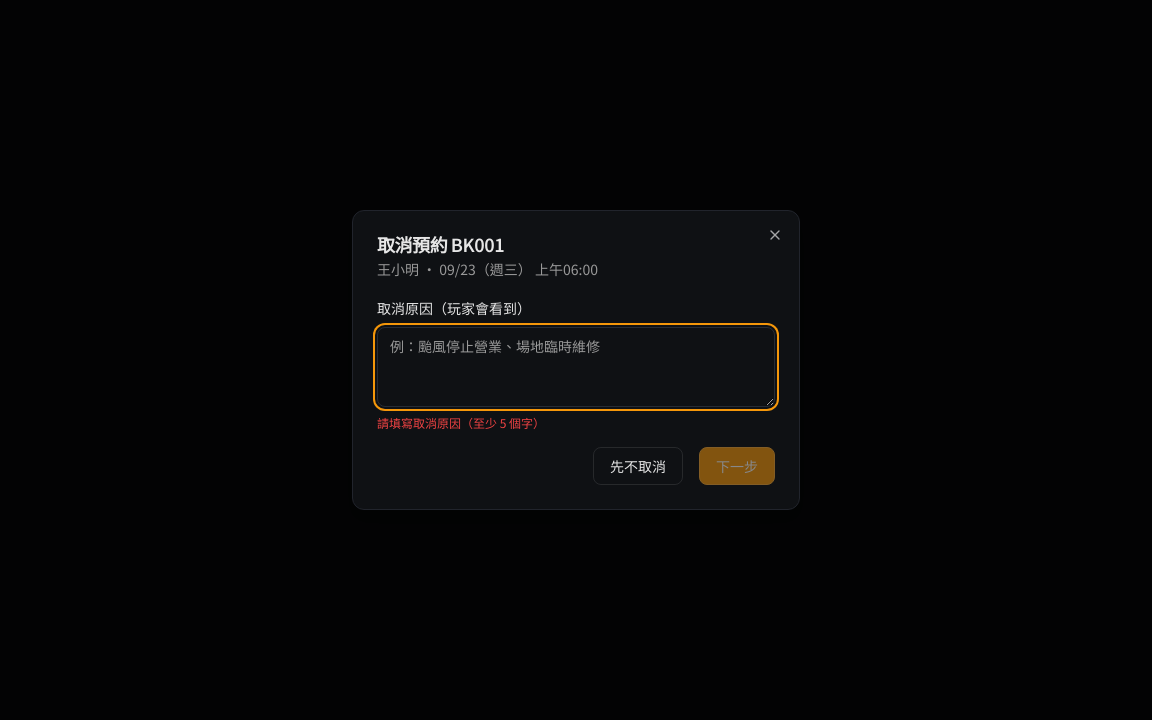
Test: CancelBookingDialog › 輸入不足 5 字 → 即時提示還差幾個字
The image size is (1152, 720).
In the text box with test id "input-cancel-reason": [576, 367] box left=377, top=327, right=775, bottom=407, type "下雨"
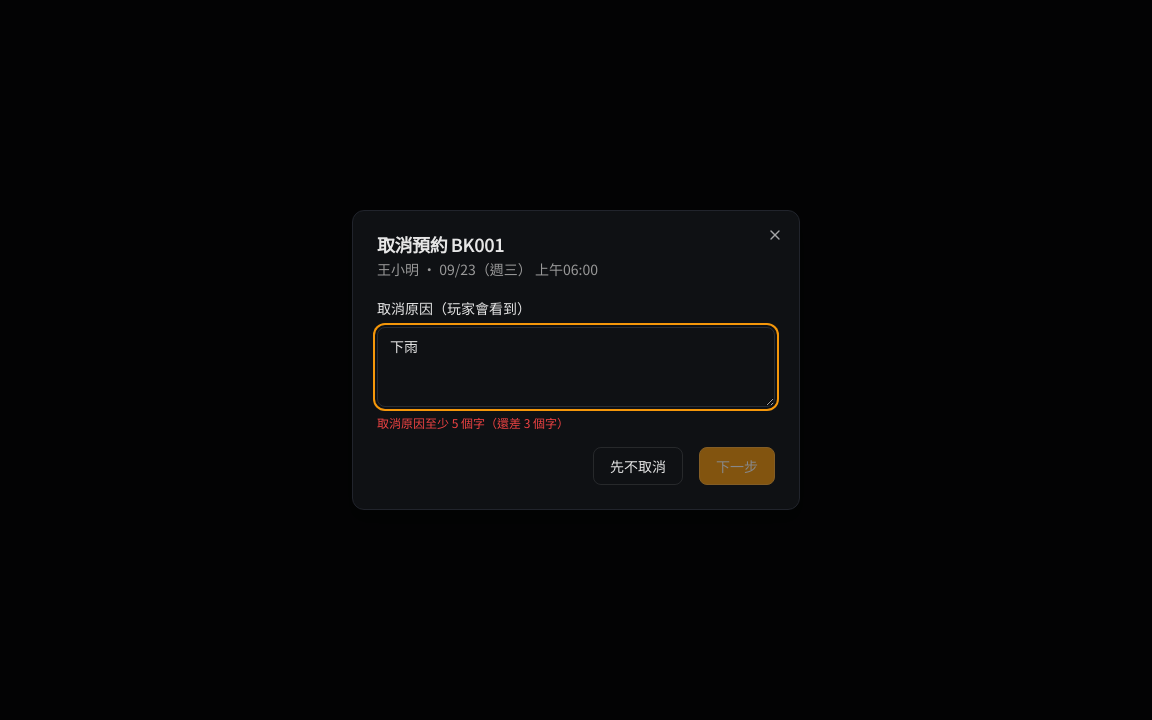
Check: the button with test id "button-cancel-next" is disabled, box left=699, top=447, right=775, bottom=485
Check: the text with test id "cancel-reason-hint" shows "還差 3 個字", box left=377, top=414, right=569, bottom=431
